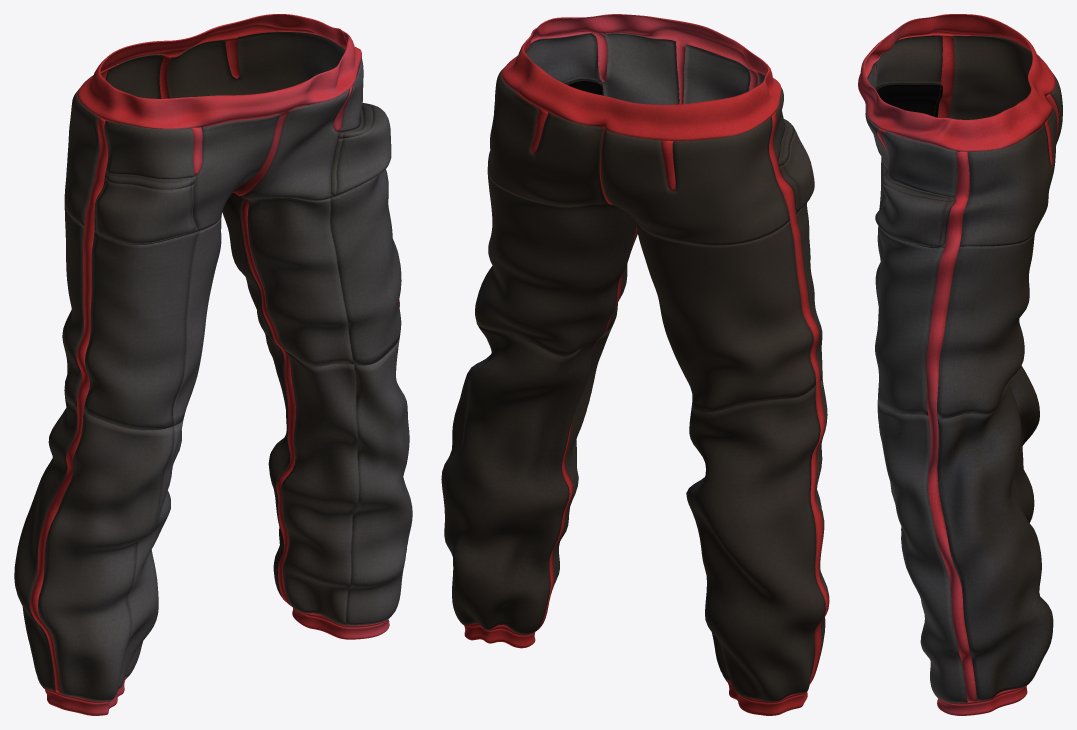
The model's file is pants_baked_ver.glb.
3 views of the same model, side by side, from view 1: azimuth 30°, elevation 25°; view 2: azimuth 150°, elevation 25°; view 3: azimuth 270°, elevation 25° (orthographic). The views are drawn at different scales.
Visible parts, largest first — view 1: PantsMid; view 2: PantsMid; view 3: PantsMid.
Part boxes in pixels (x1,y1,x2,y2): PantsMid: [14, 14, 412, 715]; PantsMid: [441, 14, 829, 715]; PantsMid: [858, 14, 1062, 715].
Bounding box in the file's own units: 47.71 × 74.85 × 23.78.
Materials: 3 (3 with a texture image).
